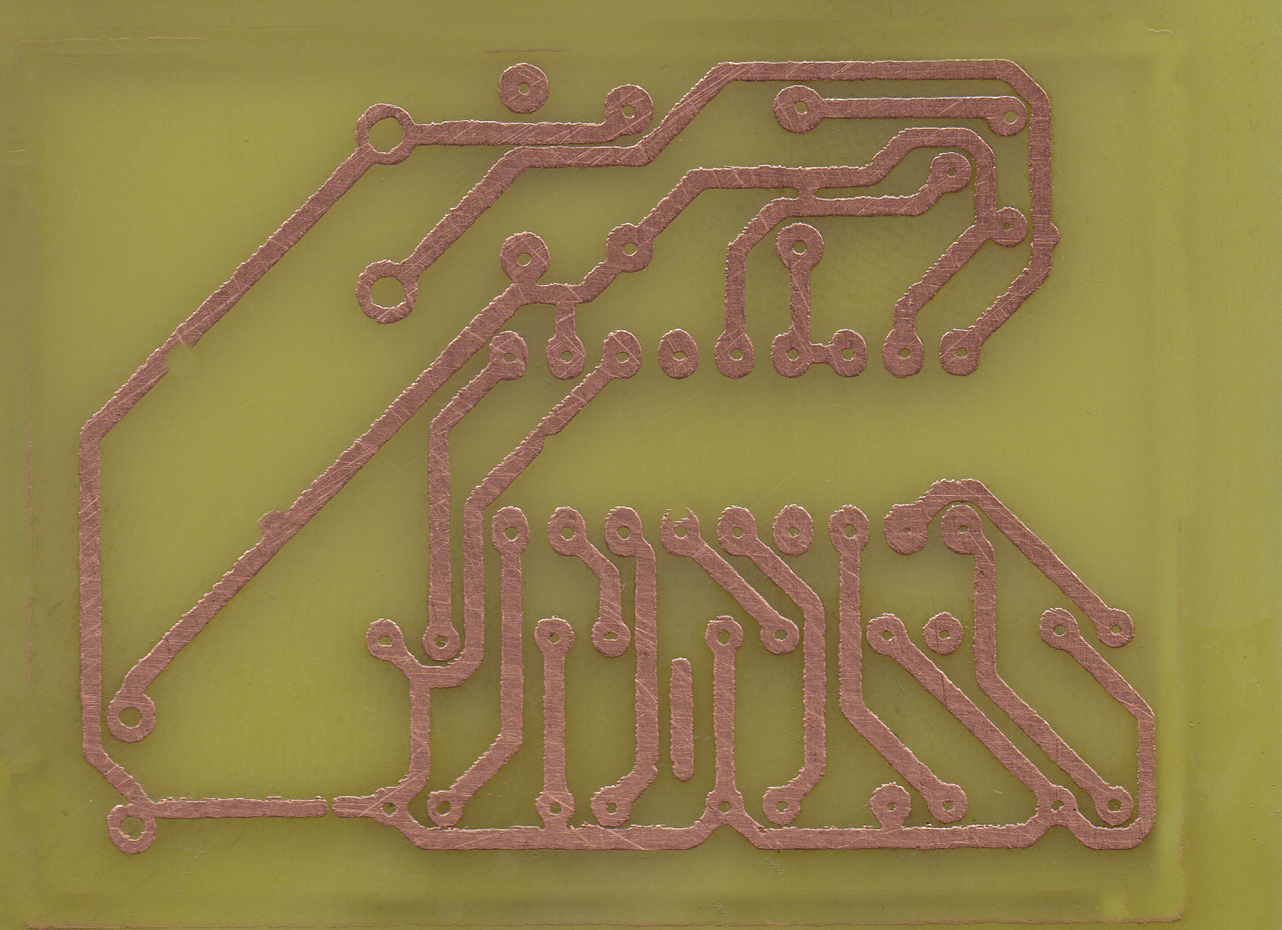missing_hole: (659, 503, 704, 561)
mouse_bite: (157, 333, 199, 377), (532, 421, 558, 454)
open_circuit: (305, 793, 350, 821)
short: (786, 166, 826, 219), (538, 809, 572, 838), (877, 817, 906, 833)
spur: (251, 504, 296, 548), (1033, 218, 1064, 256), (577, 818, 593, 852)
spurious_copper: (664, 653, 698, 786)
